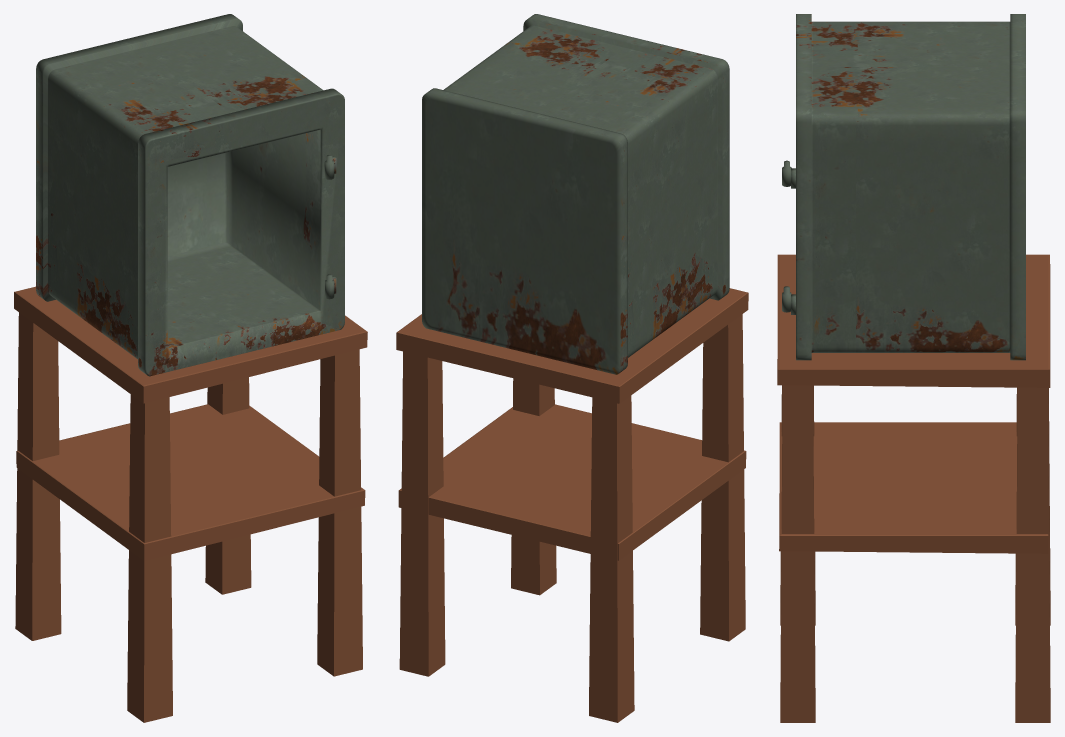
Rendered from Safe.fbx.
The picture shows the model from 3 angles, left to right: view 1: azimuth 30°, elevation 25°; view 2: azimuth 150°, elevation 25°; view 3: azimuth 270°, elevation 25°; orthographic projection. The views are drawn at different scales.
Visible parts, largest first — view 1: Cylinder.008; view 2: Cylinder.008; view 3: Cylinder.008.
Part boxes in pixels (x1,y1,x2,y2): Cylinder.008: (14, 14, 367, 722); Cylinder.008: (396, 14, 748, 722); Cylinder.008: (777, 14, 1050, 722).
Bounding box in the file's own units: 79.4 × 194 × 79.69.
